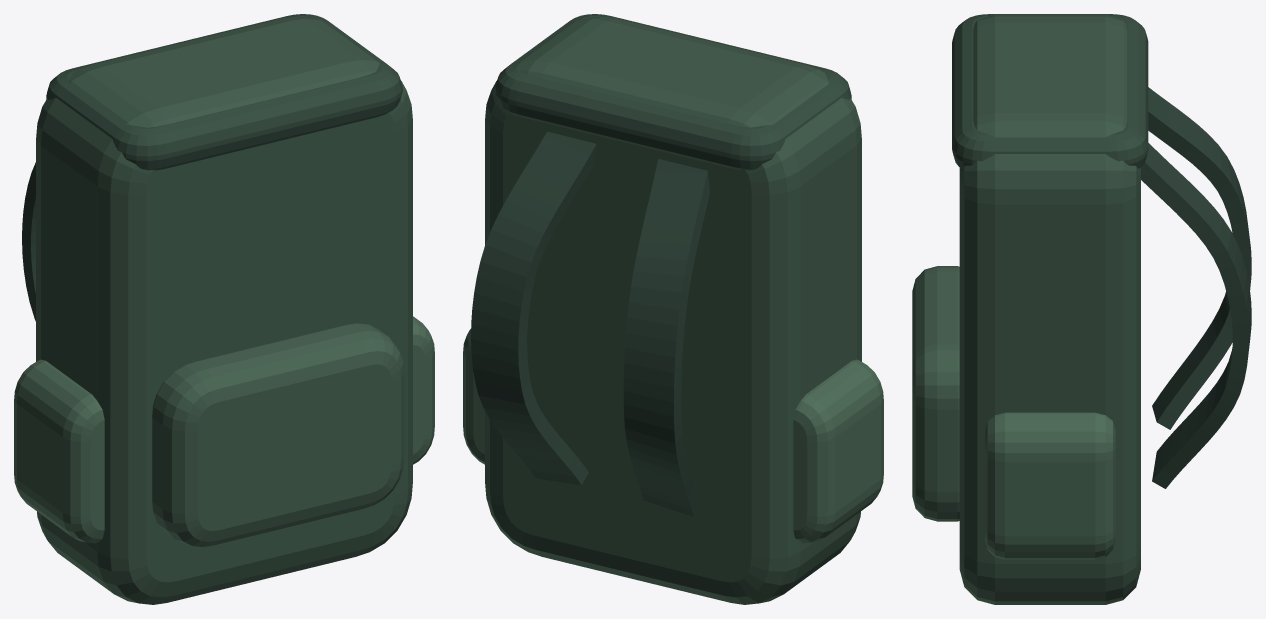
The model's file is daypack-22.glb.
The picture shows the model from 3 angles, left to right: view 1: azimuth 30°, elevation 25°; view 2: azimuth 150°, elevation 25°; view 3: azimuth 270°, elevation 25°; orthographic projection.
Visible parts, largest first — view 1: body, front-pocket, lid, side-pocket-l, side-pocket-r, shoulder-strap-l; view 2: body, shoulder-strap-r, shoulder-strap-l, lid, side-pocket-l, side-pocket-r; view 3: body, side-pocket-r, front-pocket, shoulder-strap-r, lid, shoulder-strap-l.
Part boxes in pixels (box(x1,y1,x2,y2)): body: box(36, 16, 412, 604); front-pocket: box(152, 323, 404, 546); lid: box(46, 14, 402, 170); side-pocket-l: box(14, 359, 104, 543); side-pocket-r: box(413, 316, 434, 464); shoulder-strap-l: box(22, 162, 35, 321); body: box(485, 16, 861, 604); shoulder-strap-r: box(471, 131, 596, 485); shoulder-strap-l: box(623, 159, 709, 516); lid: box(495, 14, 851, 170); side-pocket-l: box(793, 359, 883, 543); side-pocket-r: box(463, 329, 484, 464); body: box(959, 14, 1140, 604); side-pocket-r: box(985, 412, 1115, 559); front-pocket: box(912, 266, 959, 521); shoulder-strap-r: box(1141, 143, 1251, 488); lid: box(952, 14, 1148, 168); shoulder-strap-l: box(1148, 87, 1251, 429).
Size of the model in its own units: 0.416 by 0.53 by 0.3369.
